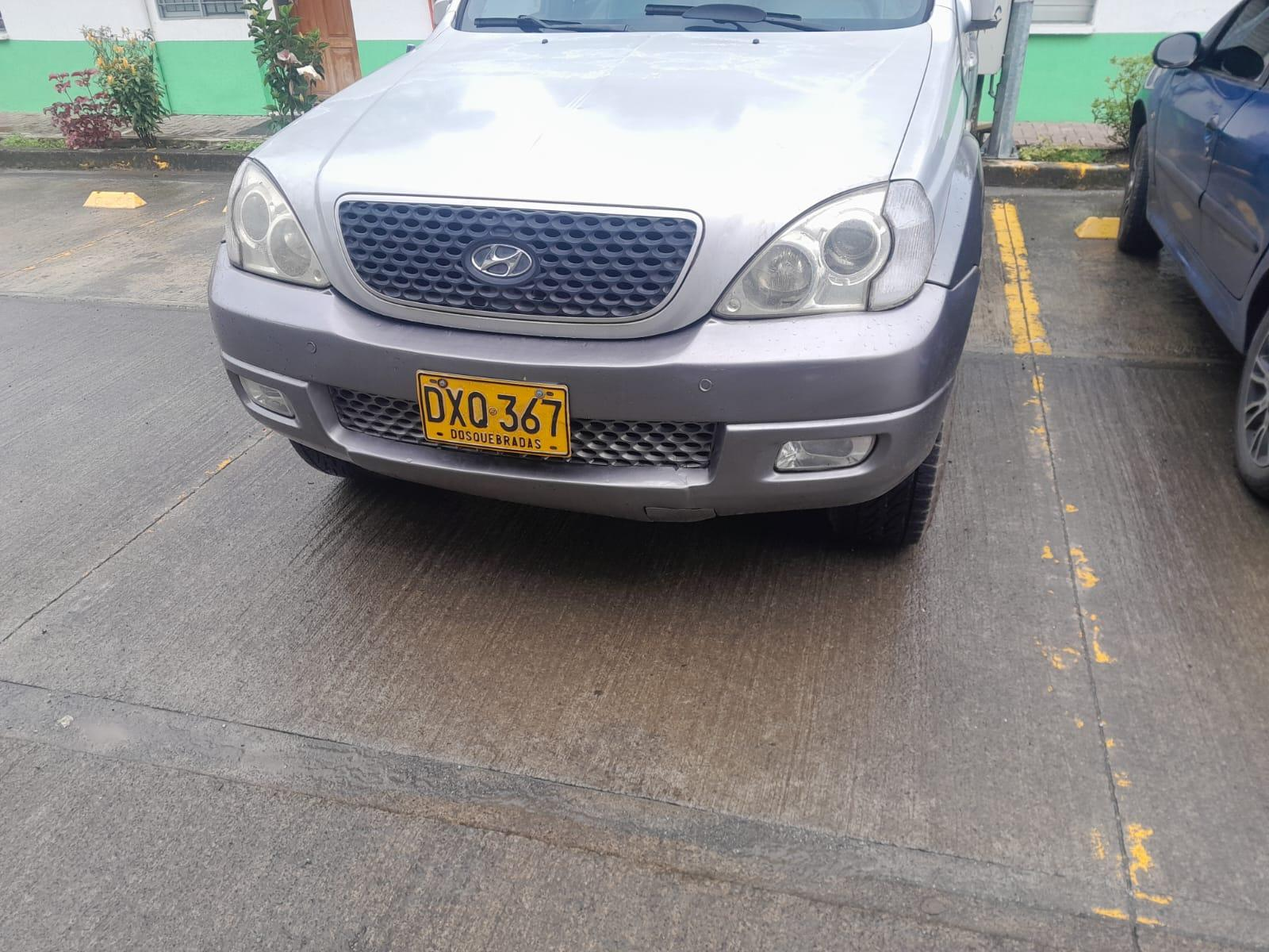placa: (418, 372, 569, 457)
